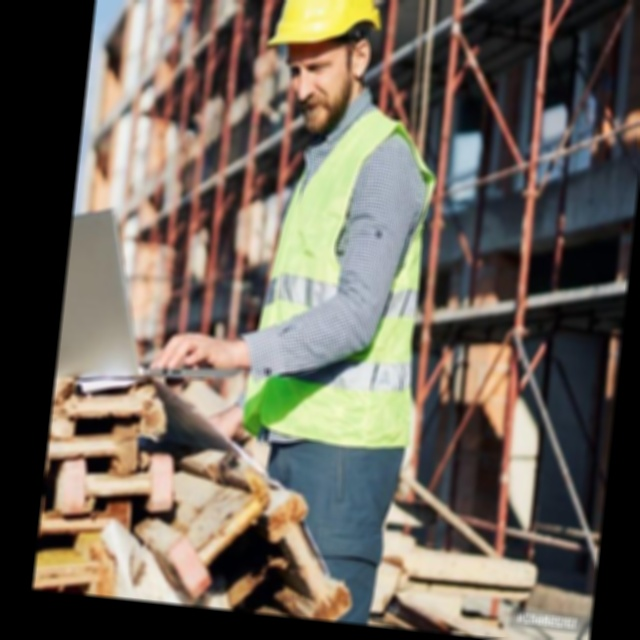Con_Casco: (259, 0, 386, 133)
Con_Chaleco: (235, 109, 442, 456)
